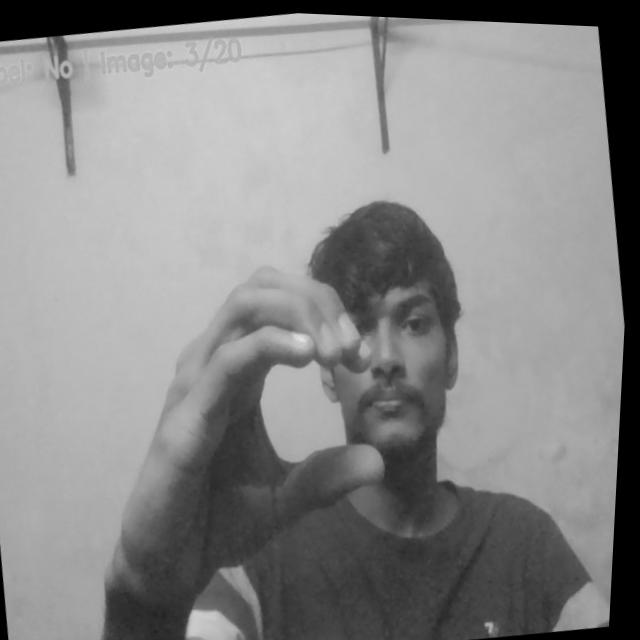No: (118, 252, 408, 566)
